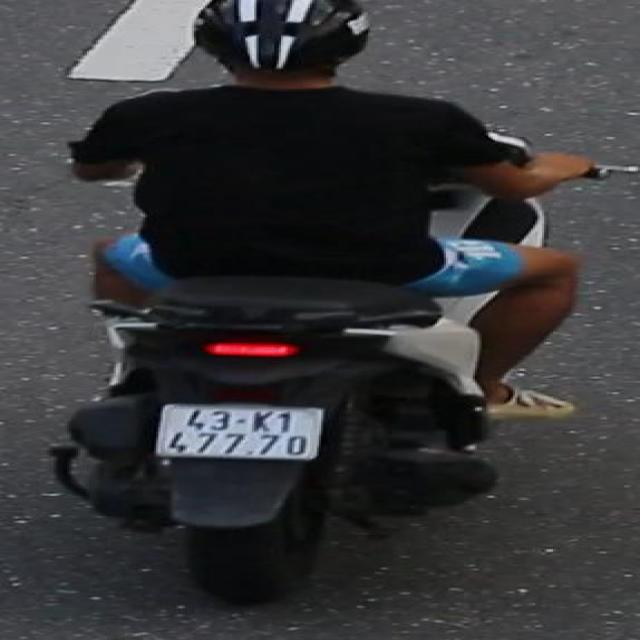LP: (154, 397, 332, 465)
helmet: (176, 0, 390, 73)
